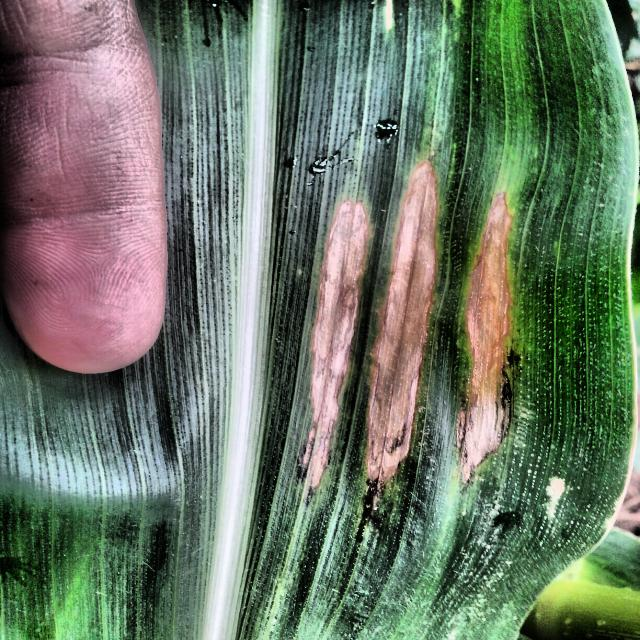gray_spot: (264, 14, 609, 640)
